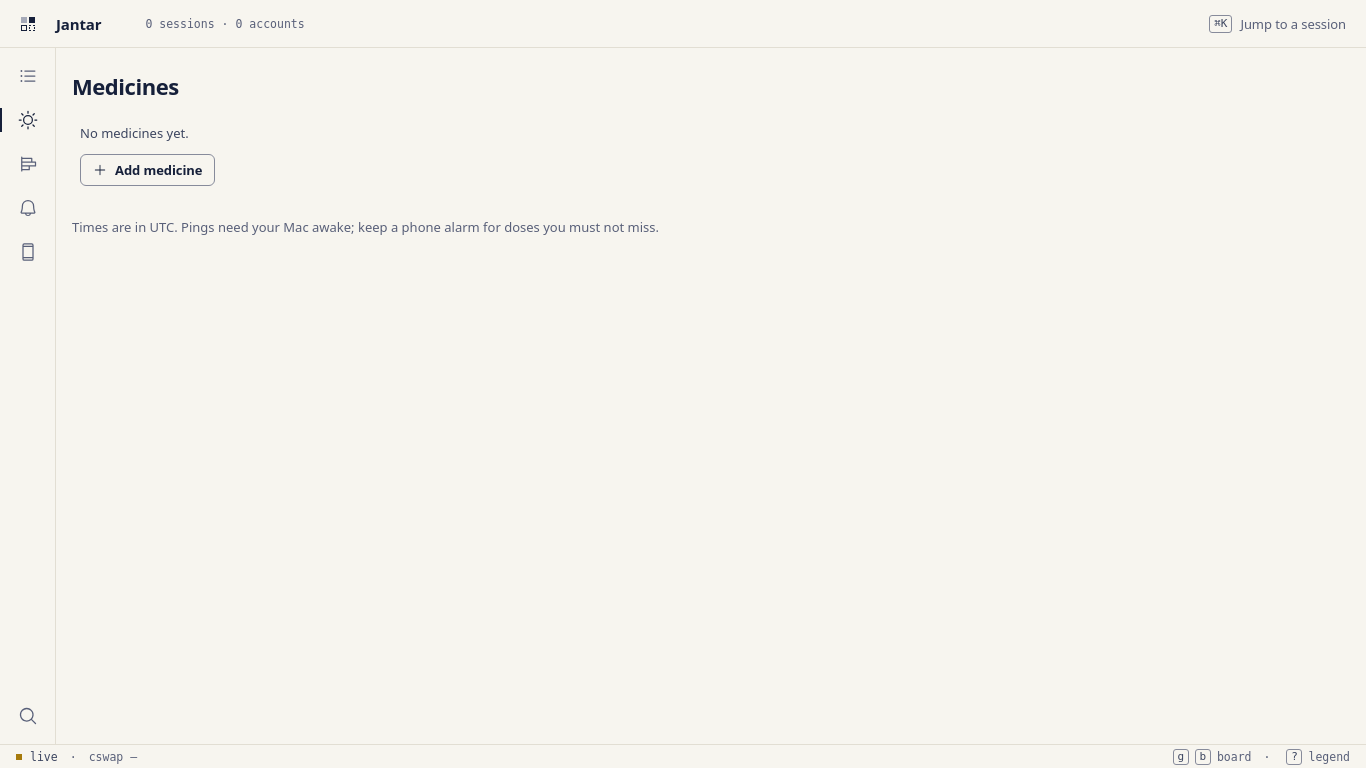
it: Medicines: your medicines › with no medicines yet: one sentence and Add medicine
The image size is (1366, 768).
Expected: the text "No medicines yet." is shown, [80,124,189,142]
Click the button "Add medicine".
click(148, 170)  # box [80,154,215,186]
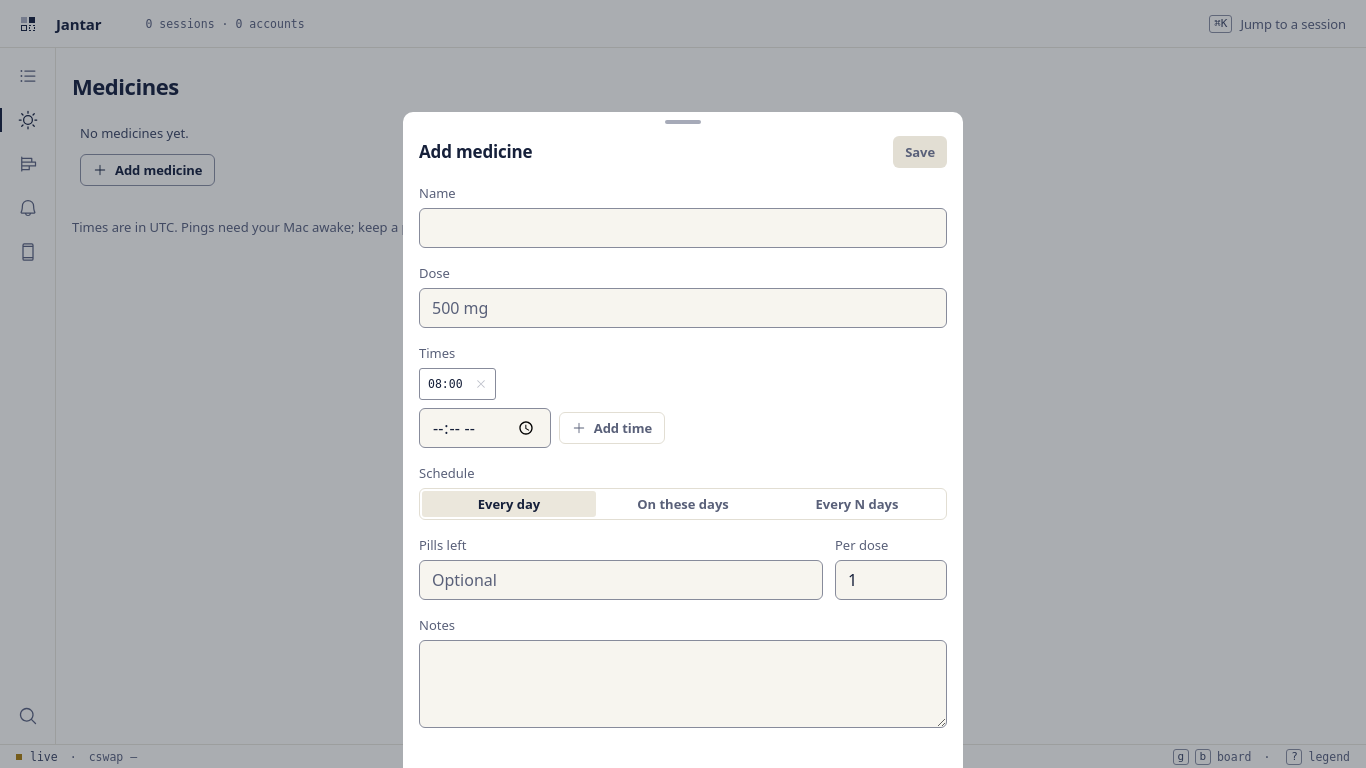
Expected: the heading "Add medicine" is shown, [419,141,532,163]
